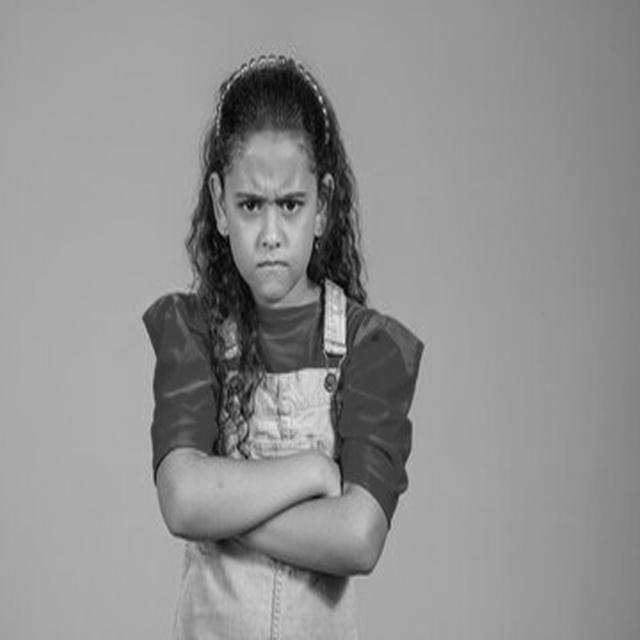Angry: (224, 131, 318, 301)
